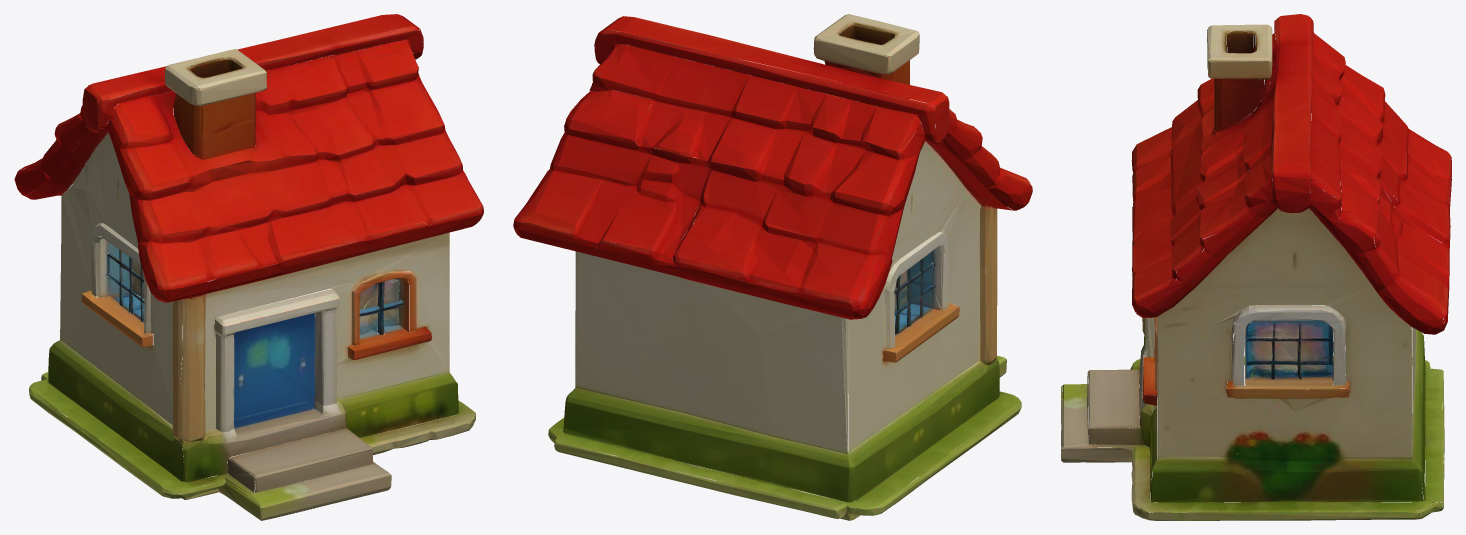
Rendered from red_small_house.glb.
The picture shows the model from 3 angles, left to right: view 1: azimuth 30°, elevation 25°; view 2: azimuth 150°, elevation 25°; view 3: azimuth 270°, elevation 25°; orthographic projection. The views are drawn at different scales.
Parts seen in each view (by area): view 1: geometry_0; view 2: geometry_0; view 3: geometry_0.
Part boxes in pixels (x1,y1,x2,y2): geometry_0: (14,14,483,520); geometry_0: (513,14,1032,520); geometry_0: (1061,14,1451,520).
Size of the model in its own units: 0.944 by 0.9911 by 0.9196.
Materials: 1 (1 with a texture image).
